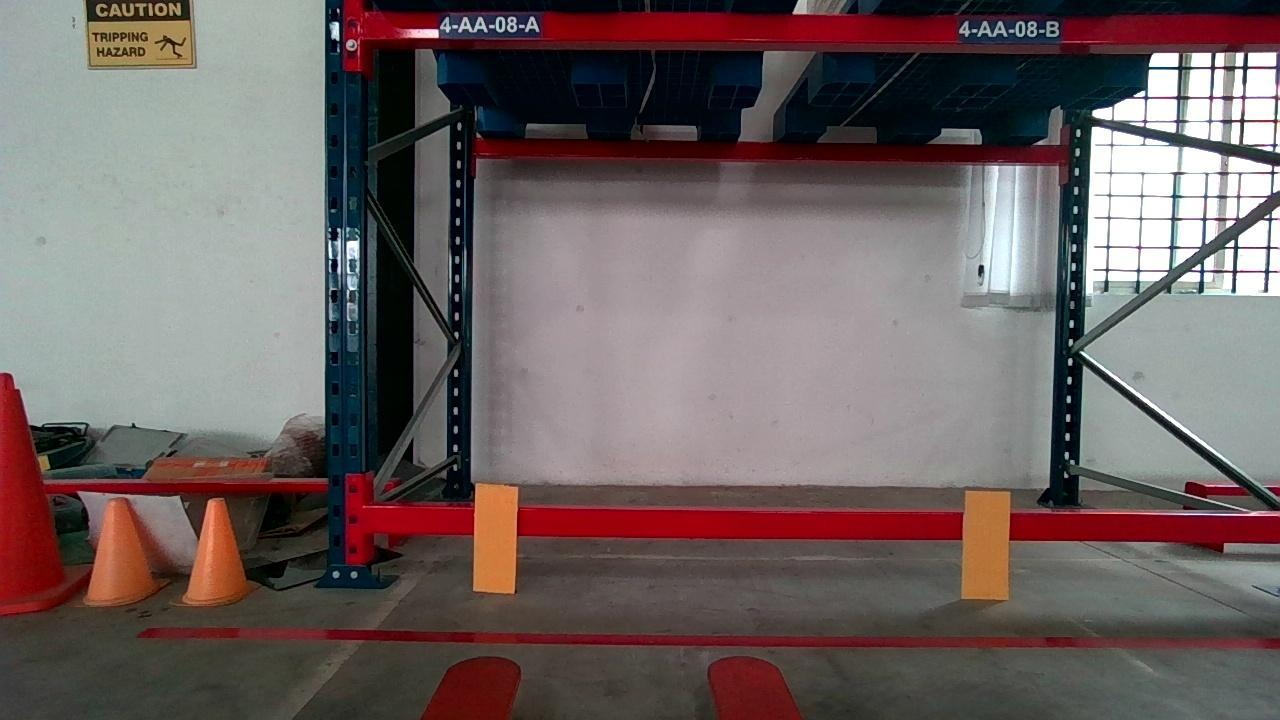h_rack: (362, 499, 1280, 545), (352, 6, 1280, 51)
orange_strip: (470, 480, 520, 593), (963, 489, 1007, 598)
red_line: (145, 624, 1280, 649)
